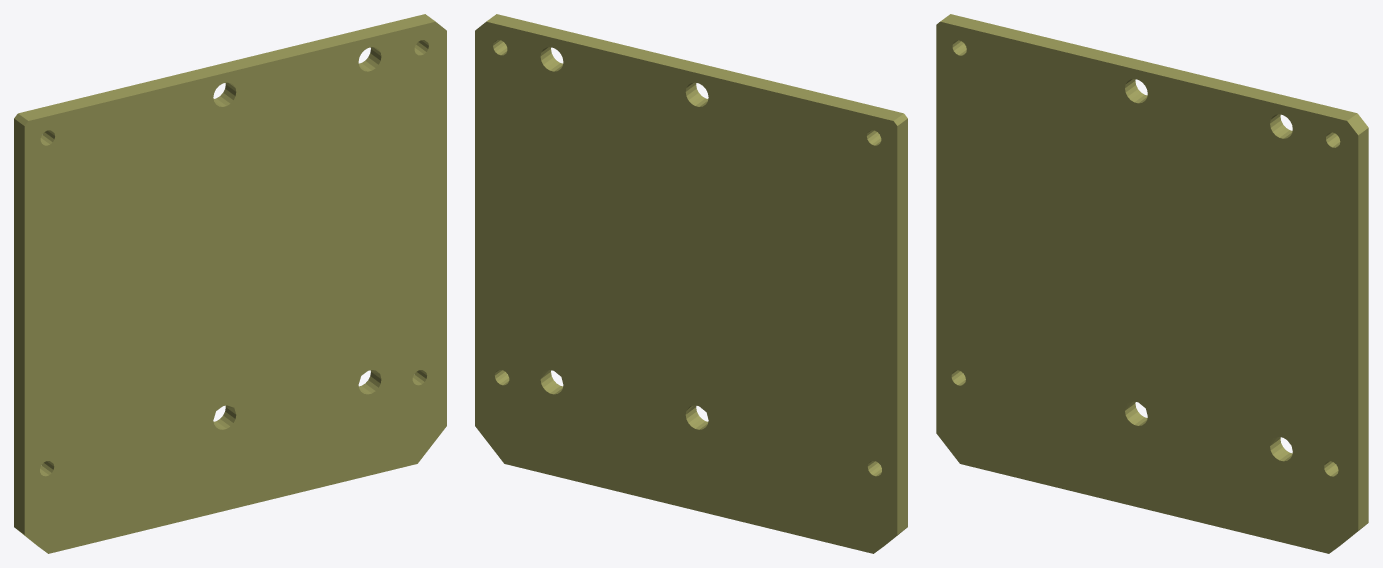
File: OBJ_FFF_PCB copy.obj
The picture shows the model from 3 angles, left to right: view 1: azimuth 30°, elevation 25°; view 2: azimuth 150°, elevation 25°; view 3: azimuth 330°, elevation 25°; orthographic projection.
Size of the model in its own units: 233 by 231 by 10.
